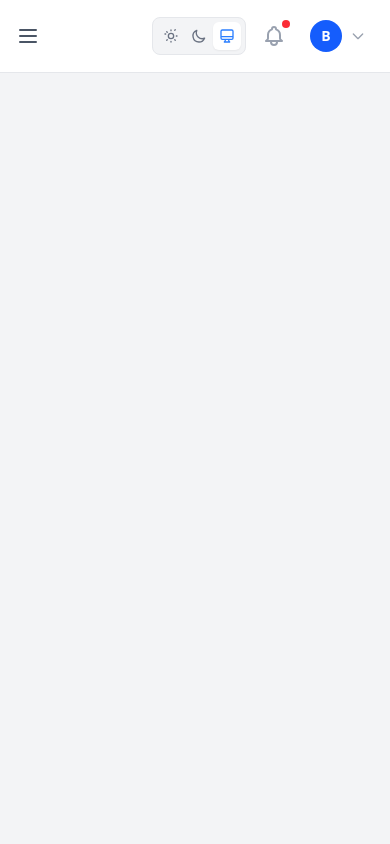
Test case: Responsive Layout & Mobile Navigation Drawer › opens sidebar drawer and displays backdrop overlay when hamburger button is clicked
Click the button with test id "hamburger-button".
click(28, 36)  # box [8,16,48,56]
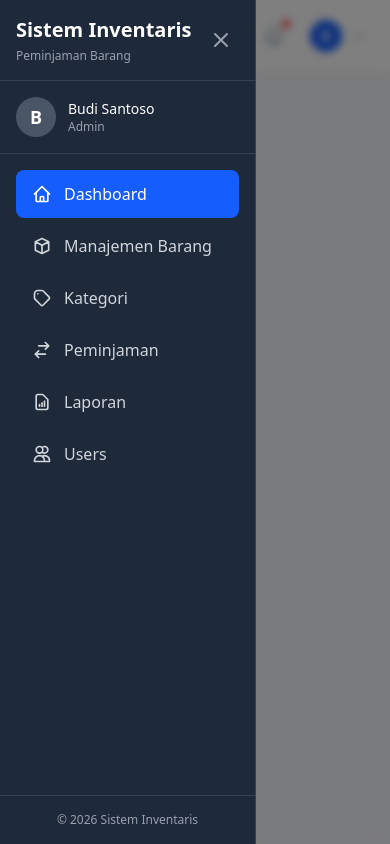
Now the element with test id "sidebar-backdrop" is shown
